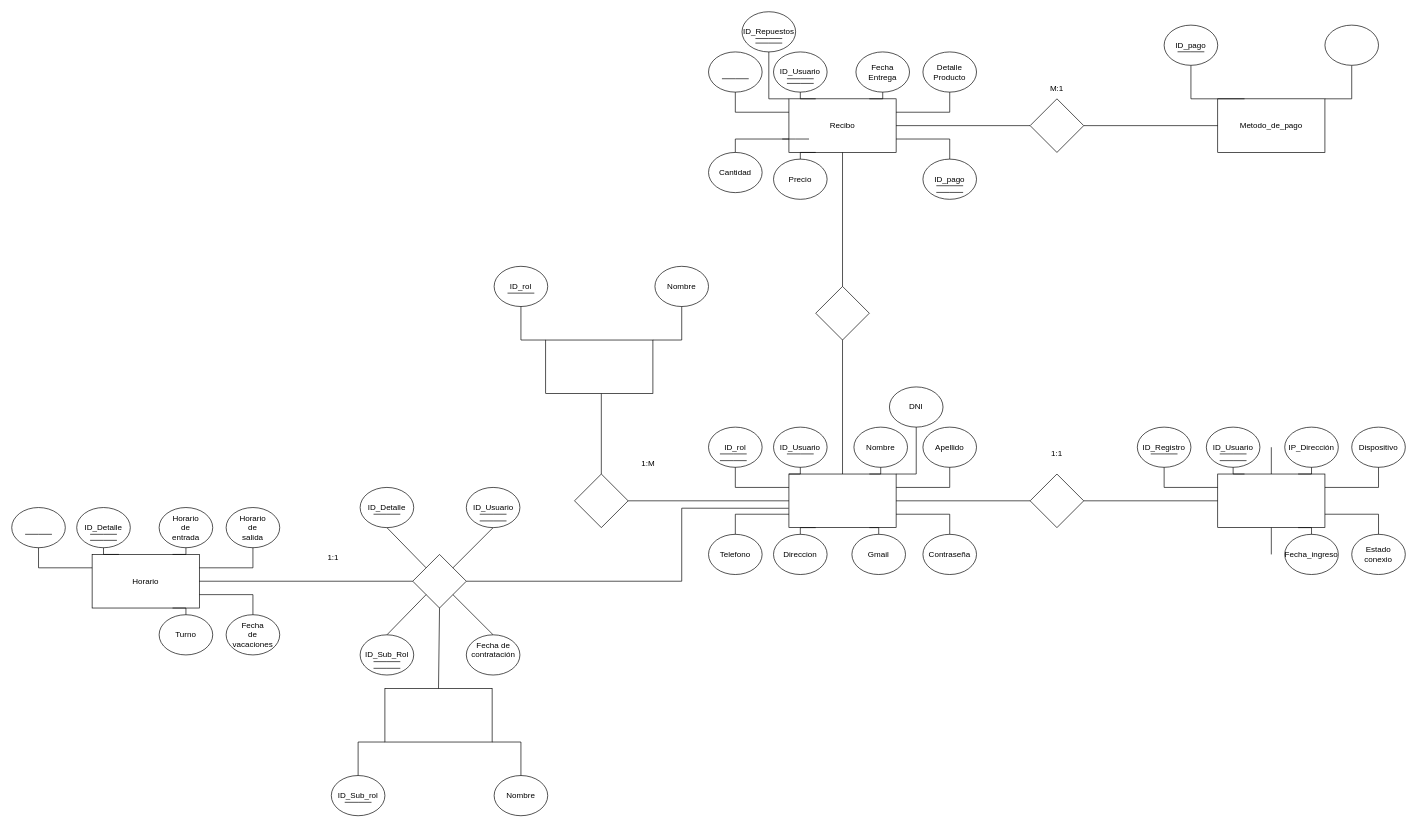
Some shapes in this 1417 by 827 pixel diagram are drawn without their labels. The centre of each missing label's shape, as x and y in pixels:
Detalle Empleado: (x=439, y=581)
ID_Horario: (x=38, y=527)
ID_Recibo: (x=735, y=71)
Registro: (x=1271, y=500)
Rol: (x=599, y=366)
Sub_Rol: (x=438, y=715)
Tipo_de_pago: (x=1351, y=44)
Usuario: (x=842, y=500)
